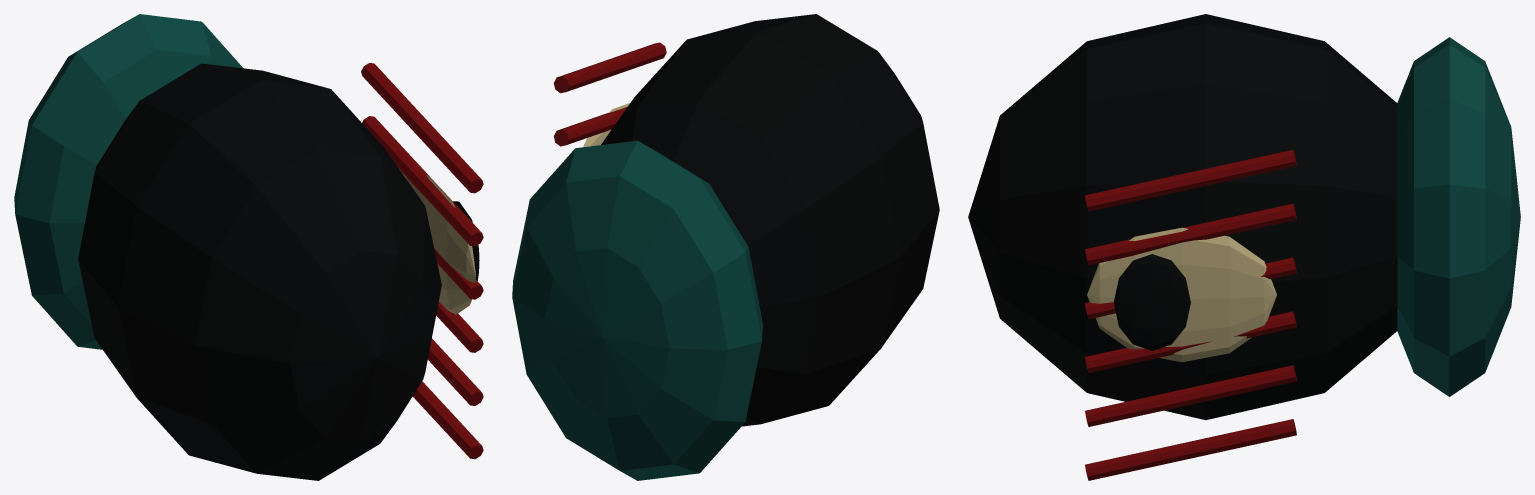
Rendered from Resident9Body.obj.
3 views of the same model, side by side, from view 1: azimuth 30°, elevation 25°; view 2: azimuth 150°, elevation 25°; view 3: azimuth 270°, elevation 25° (orthographic).
Visible parts, largest first — view 1: Resident9Body; view 2: Resident9Body; view 3: Resident9Body.
Part boxes in pixels (x1,y1,x2,y2): Resident9Body: (14, 14, 483, 480); Resident9Body: (512, 14, 939, 480); Resident9Body: (968, 14, 1520, 480).
Size of the model in its own units: 63.5 by 72 by 93.
